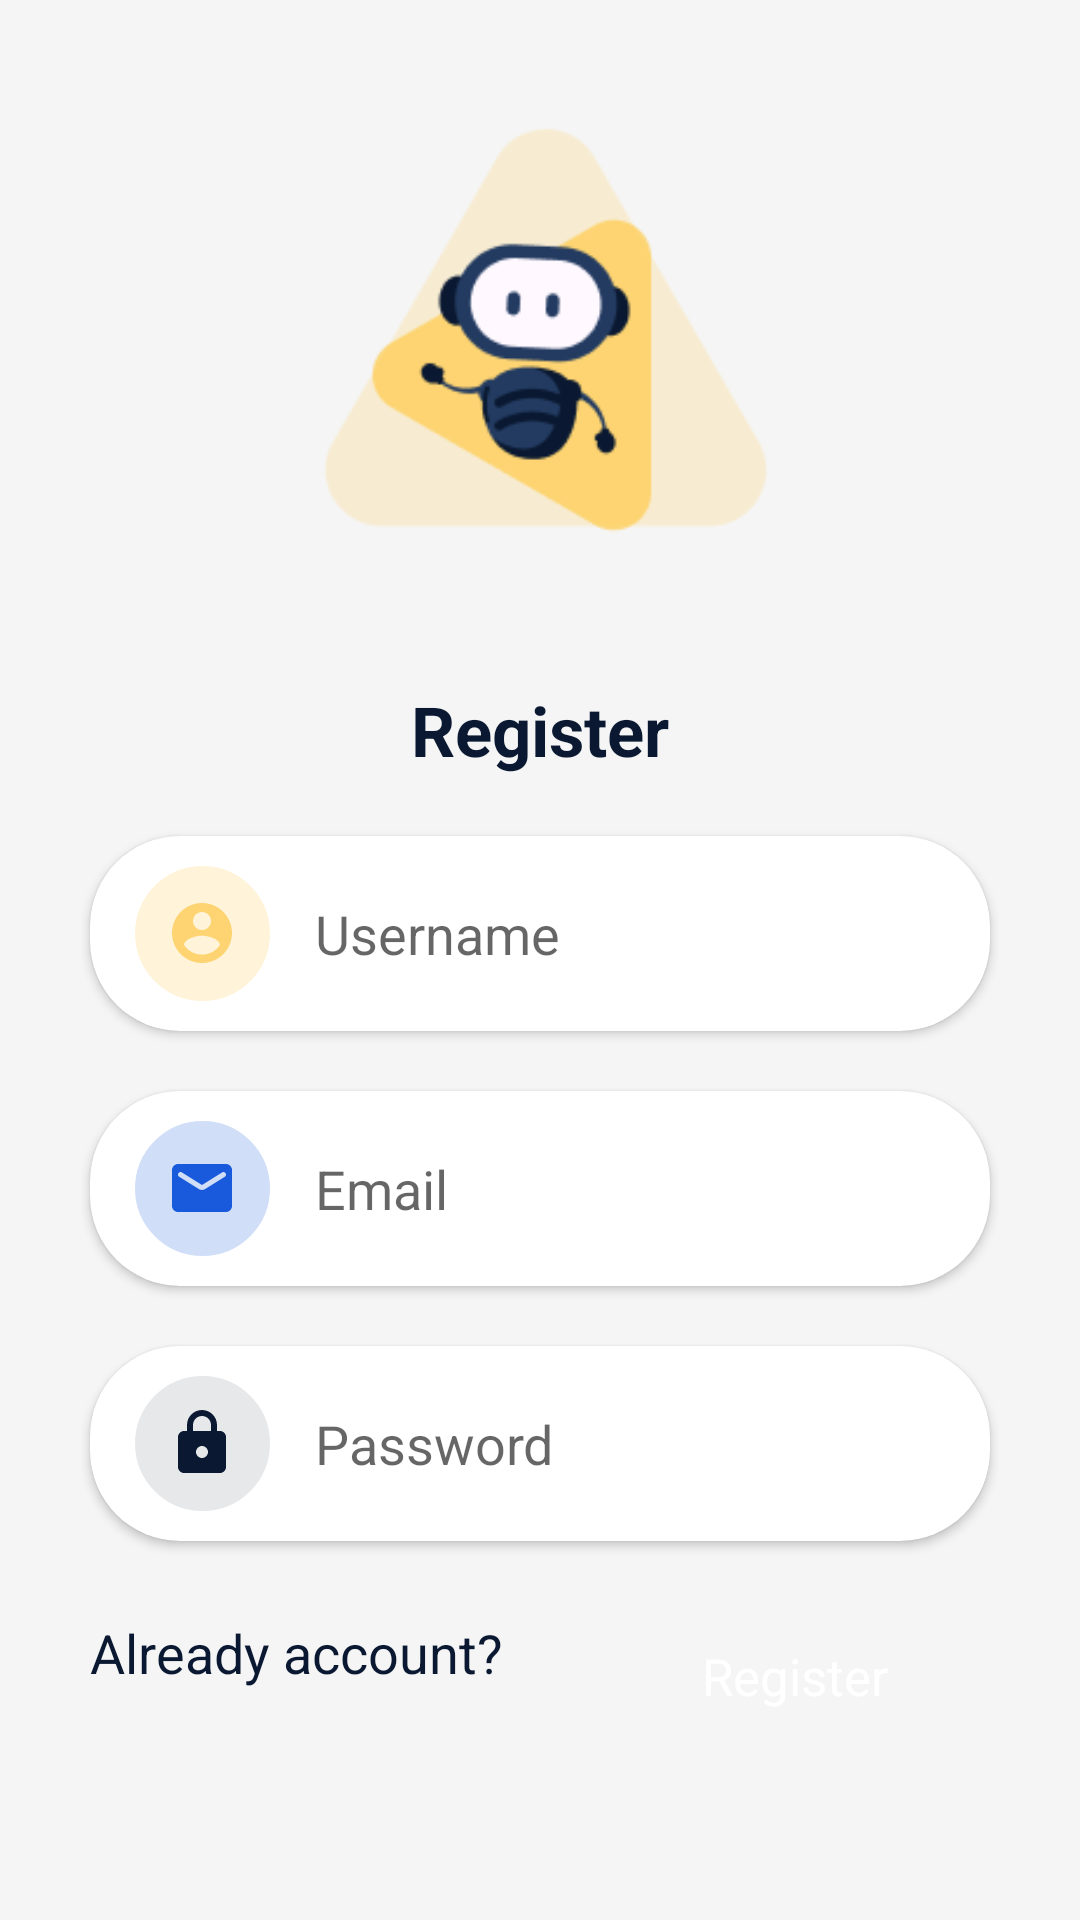

Icon click points for this 1080w x 1920h phone screenshot, format [x,y]:
account: [202,933]
lock: [202,1441]
